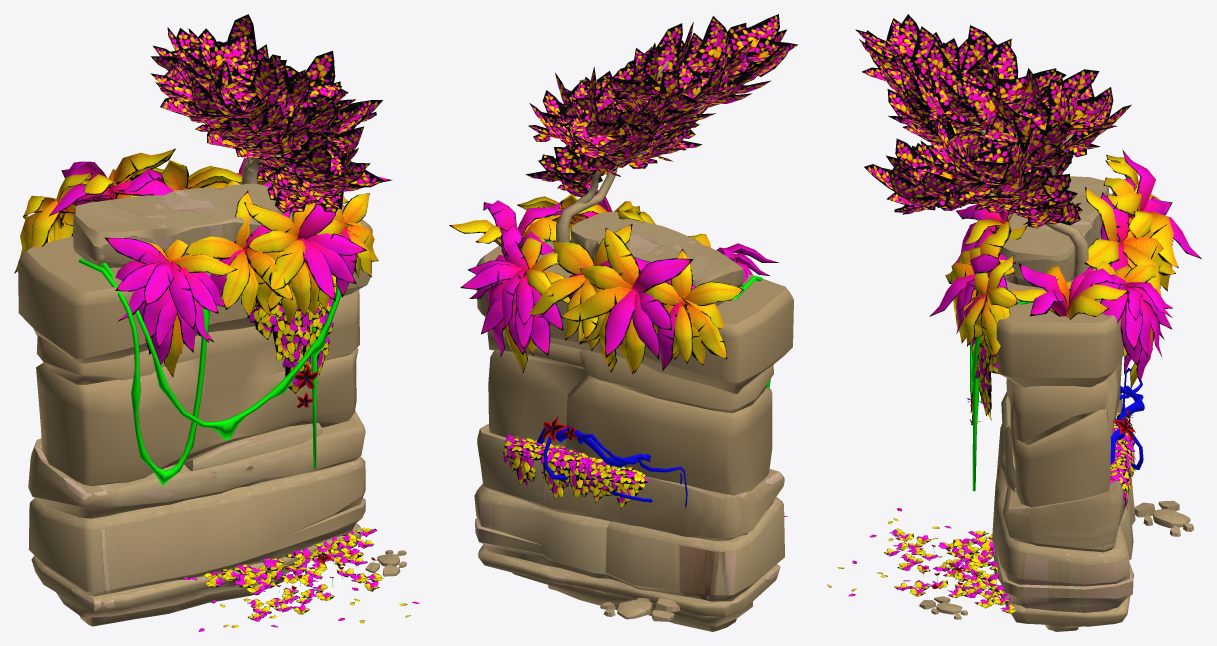
Rendered from Wall.fbx.
3 views of the same model, side by side, from view 1: azimuth 30°, elevation 25°; view 2: azimuth 150°, elevation 25°; view 3: azimuth 270°, elevation 25° (orthographic). The views are drawn at different scales.
Parts seen in each view (by area): view 1: SM_Act1_1600x800x2000_Oasis_01.001; view 2: SM_Act1_1600x800x2000_Oasis_01.001; view 3: SM_Act1_1600x800x2000_Oasis_01.001.
Boxes of the visible parts, bbox=[...] form: SM_Act1_1600x800x2000_Oasis_01.001: bbox=[14, 14, 419, 631]; SM_Act1_1600x800x2000_Oasis_01.001: bbox=[449, 14, 797, 631]; SM_Act1_1600x800x2000_Oasis_01.001: bbox=[827, 14, 1201, 631].
Bounding box in the file's own units: 214660 × 362638 × 224421.
10 materials, 10 textured.
